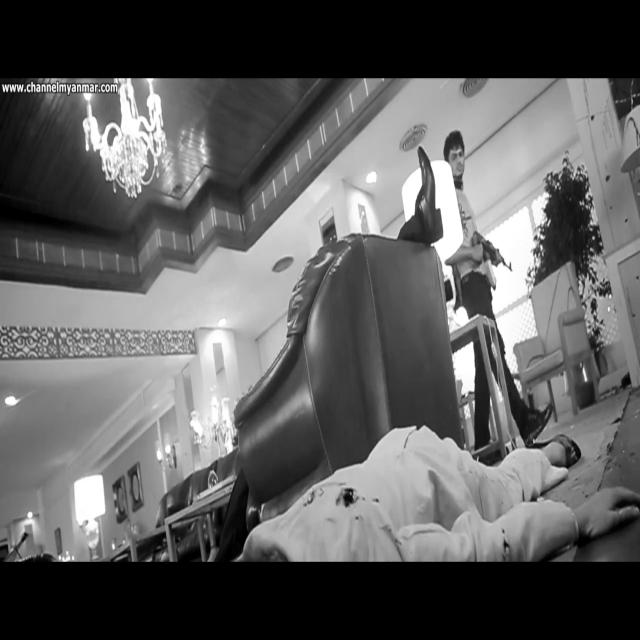gun: (472, 231, 512, 291)
